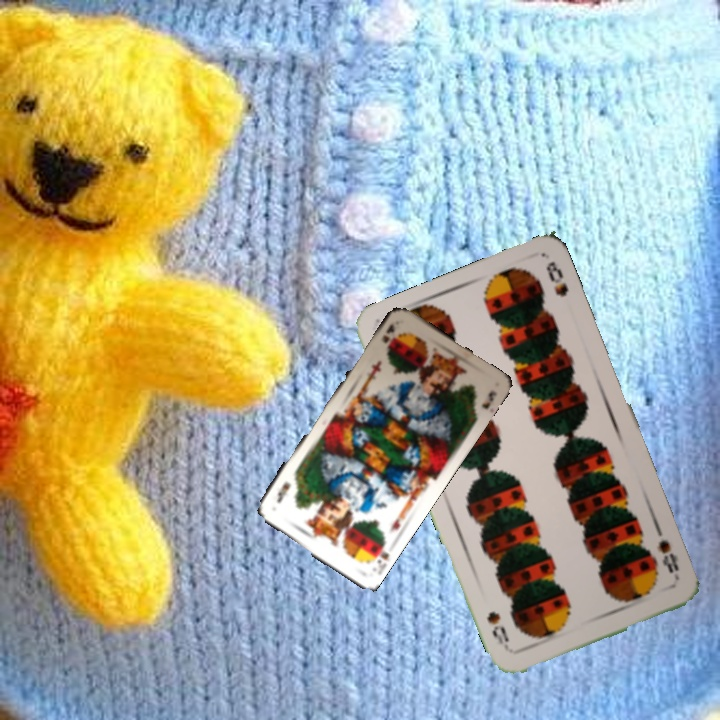S8: (653, 536, 683, 583)
SK: (370, 538, 392, 569), (378, 319, 397, 345)
